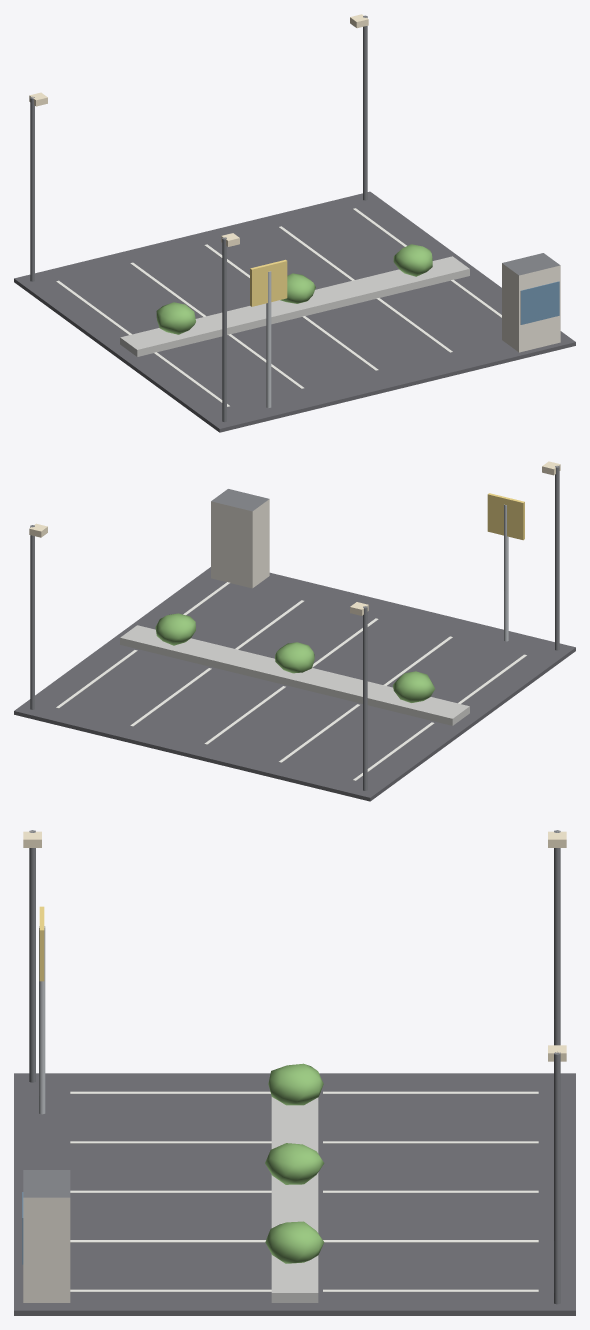
File: parking_lot.glb
3 renders of one model, top to bottom at view 1: azimuth 30°, elevation 25°; view 2: azimuth 150°, elevation 25°; view 3: azimuth 270°, elevation 25°, orthographic. The views are drawn at different scales.
Visible parts, largest first — view 1: parking_lot; view 2: parking_lot; view 3: parking_lot.
Boxes of the visible parts, left/top/right/bottom form: parking_lot: left=14, top=14, right=575, bottom=432; parking_lot: left=14, top=461, right=575, bottom=801; parking_lot: left=14, top=830, right=575, bottom=1315.
Bounding box in the file's own units: 12 × 6 × 12.
